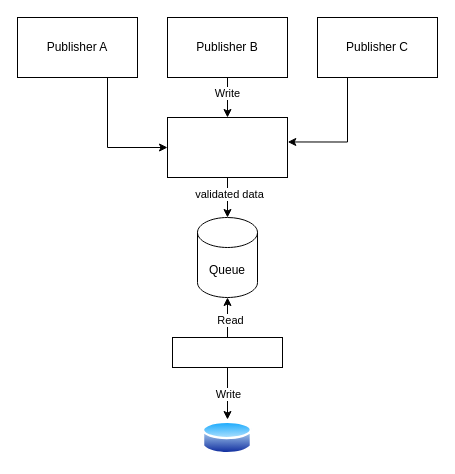
Some shapes in this 455 by 474 pixel diagram are drawn without their labels. The shapes that lost their labels are listed below. From the top down, each one's box as (x1, y1, x2, y2) in pixels, then its label:
(166, 116, 288, 178): Validator
(172, 336, 282, 368): Consumer
